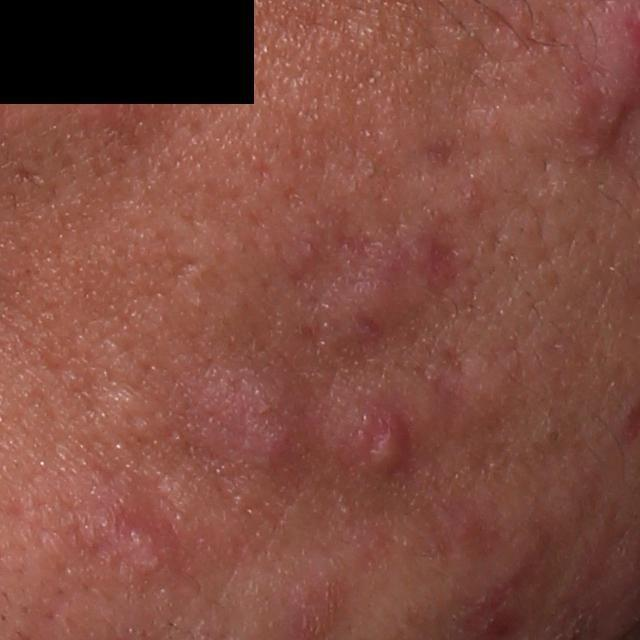atrophic_scar: (7, 164, 49, 192)
comedo: (541, 423, 568, 448)
nodule: (160, 350, 316, 499), (295, 241, 459, 367)
